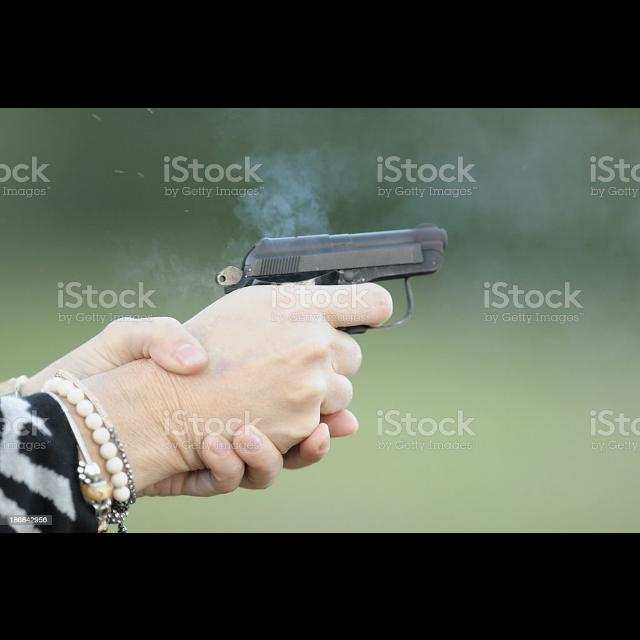handgun: (212, 220, 450, 338)
